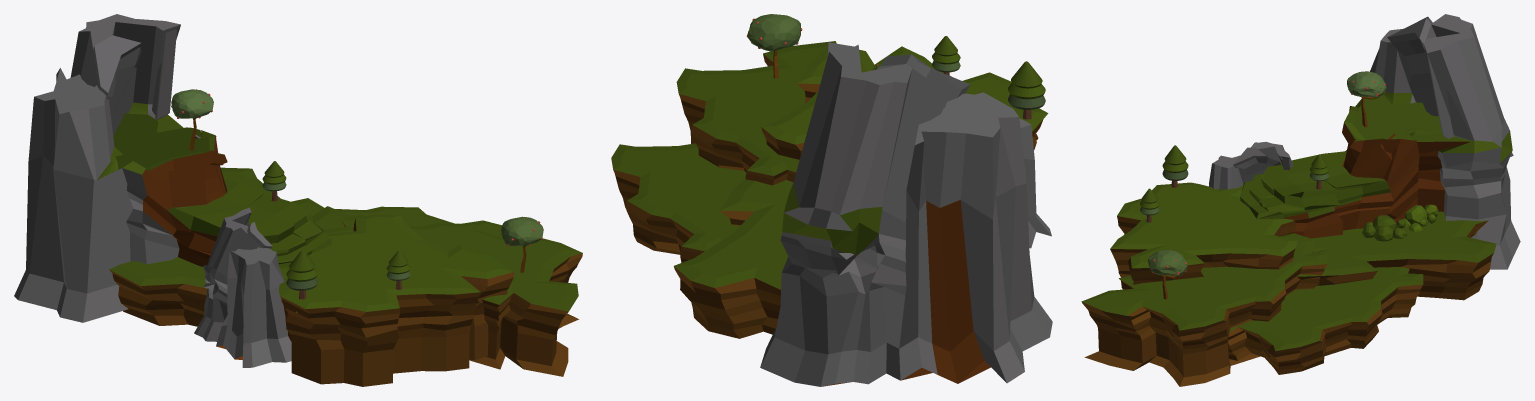
The model's file is klifyV2.fbx.
3 renders of one model, left to right at view 1: azimuth 30°, elevation 25°; view 2: azimuth 150°, elevation 25°; view 3: azimuth 270°, elevation 25°, orthographic. The views are drawn at different scales.
Parts seen in each view (by area): view 1: Plane.001, Plane.002, Plane, Plane.004, Plane.003, Plane.005, Icosphere.008, Icosphere.002; view 2: Plane.001, Plane.003, Plane, Plane.005, Plane.002, Icosphere.002, Plane.004, Cylinder.002, Cylinder.001, Cylinder; view 3: Plane.001, Plane, Plane.002, Plane.005, Plane.003, Plane.004, Icosphere.010, Icosphere.002, Icosphere.008, Icosphere.001.
Part boxes in pixels (x1,y1,x2,y2): Plane.001: (14,14,331,341); Plane.002: (279,214,514,386); Plane: (323,214,582,376); Plane.004: (194,207,291,367); Plane.003: (109,167,352,326); Plane.005: (291,198,502,237); Icosphere.008: (171,89,213,118); Icosphere.002: (501,216,543,246); Plane.001: (760,42,1052,386); Plane.003: (673,178,793,338); Plane: (676,41,836,185); Plane.005: (611,143,746,262); Plane.002: (761,46,1048,159); Icosphere.002: (746,14,802,51); Plane.004: (1019,118,1051,248); Cylinder.002: (1011,61,1042,88); Cylinder.001: (1008,83,1045,99); Cylinder: (1008,94,1045,109); Plane.001: (1240,14,1520,269); Plane: (1081,233,1327,386); Plane.002: (1110,182,1297,284); Plane.005: (1228,267,1423,374); Plane.003: (1297,211,1496,300); Plane.004: (1209,141,1293,189); Icosphere.010: (1362,215,1406,241); Icosphere.002: (1148,250,1187,275); Icosphere.008: (1347,71,1386,96); Icosphere.001: (1402,204,1438,231).
Bounding box in the file's own units: 333 × 196 × 340.
